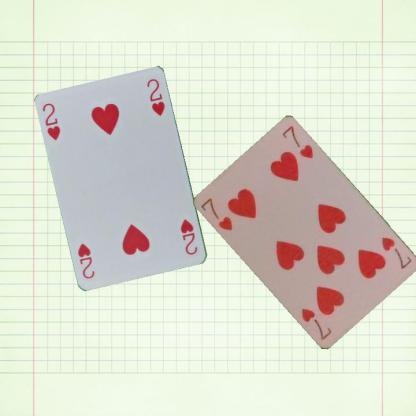2h: (40, 101, 62, 142), (178, 216, 199, 257)
7h: (199, 195, 235, 233), (379, 234, 414, 270)
